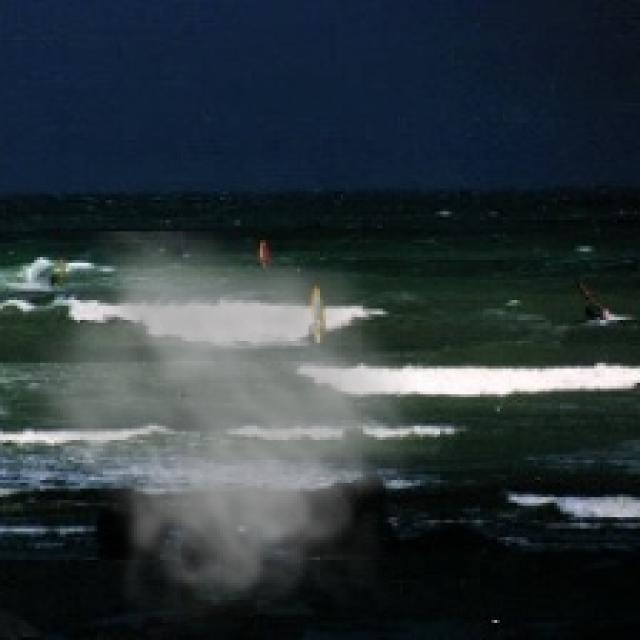smoke: (17, 232, 440, 637)
